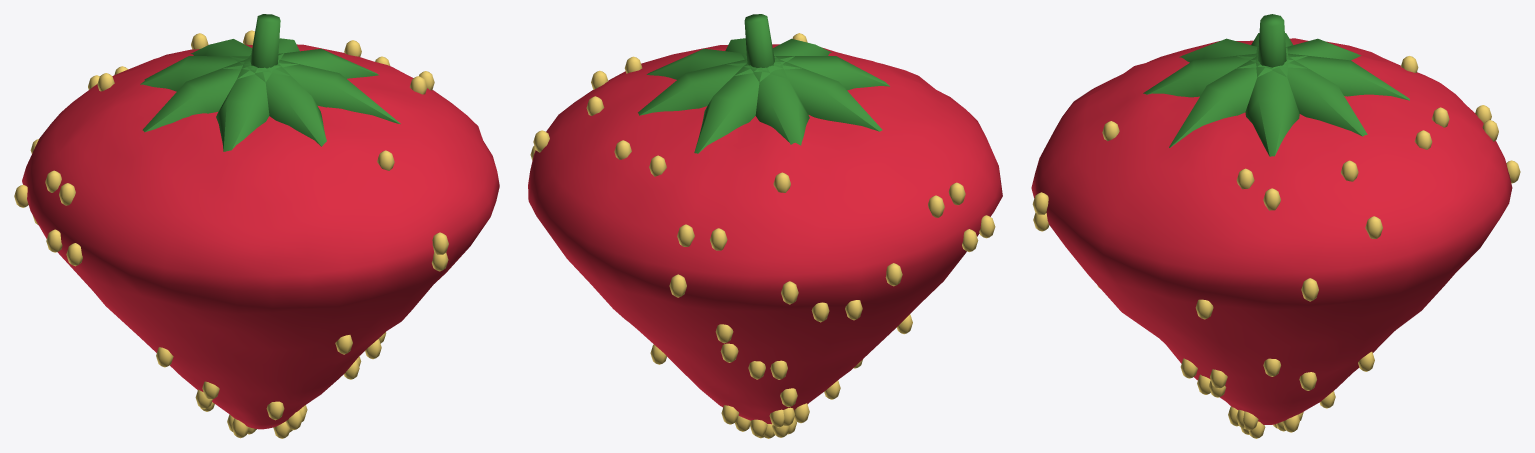
The model's file is items-strawberry.glb.
3 renders of one model, left to right at view 1: azimuth 30°, elevation 25°; view 2: azimuth 150°, elevation 25°; view 3: azimuth 270°, elevation 25°, orthographic.
Visible parts, largest first — view 1: Strawberry__Body, Strawberry__Leaves, Strawberry__Seeds; view 2: Strawberry__Body, Strawberry__Leaves, Strawberry__Seeds; view 3: Strawberry__Body, Strawberry__Leaves, Strawberry__Seeds.
Part boxes in pixels (x1=…): Strawberry__Body: x1=22, y1=44, x2=499, y2=429; Strawberry__Leaves: x1=140, y1=14, x2=400, y2=151; Strawberry__Seeds: x1=14, y1=30, x2=448, y2=438; Strawberry__Body: x1=528, y1=44, x2=1002, y2=424; Strawberry__Leaves: x1=638, y1=14, x2=889, y2=153; Strawberry__Seeds: x1=530, y1=33, x2=995, y2=438; Strawberry__Body: x1=1031, y1=38, x2=1512, y2=424; Strawberry__Leaves: x1=1143, y1=14, x2=1409, y2=156; Strawberry__Seeds: x1=1032, y1=56, x2=1520, y2=438.
Bounding box in the file's own units: 4.96 × 4.64 × 4.92.
